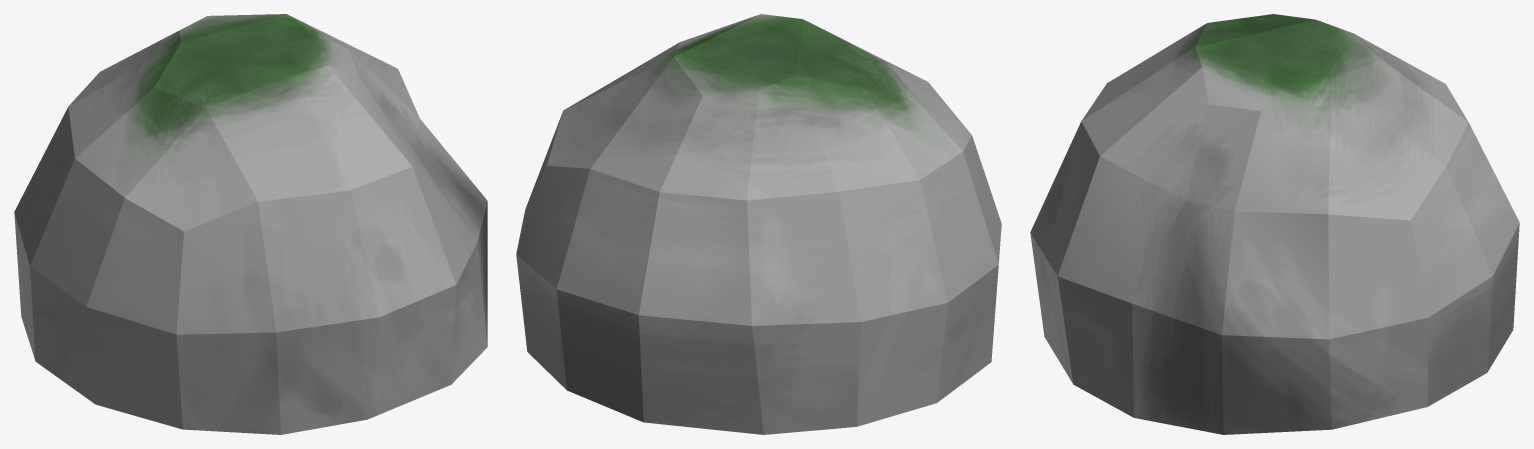
File: Stone4.fbx
The picture shows the model from 3 angles, left to right: view 1: azimuth 30°, elevation 25°; view 2: azimuth 150°, elevation 25°; view 3: azimuth 270°, elevation 25°; orthographic projection.
Visible parts, largest first — view 1: Stone4; view 2: Stone4; view 3: Stone4.
Part boxes in pixels (bbox=[...]): Stone4: bbox=[14, 14, 487, 434]; Stone4: bbox=[516, 14, 1001, 434]; Stone4: bbox=[1030, 14, 1519, 434].
Size of the model in its own units: 1.92 by 1.31 by 1.97.
